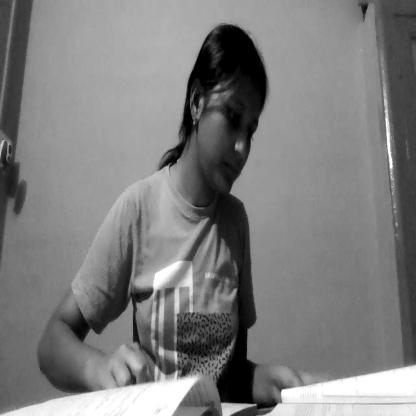Distracted: (182, 24, 275, 215)
